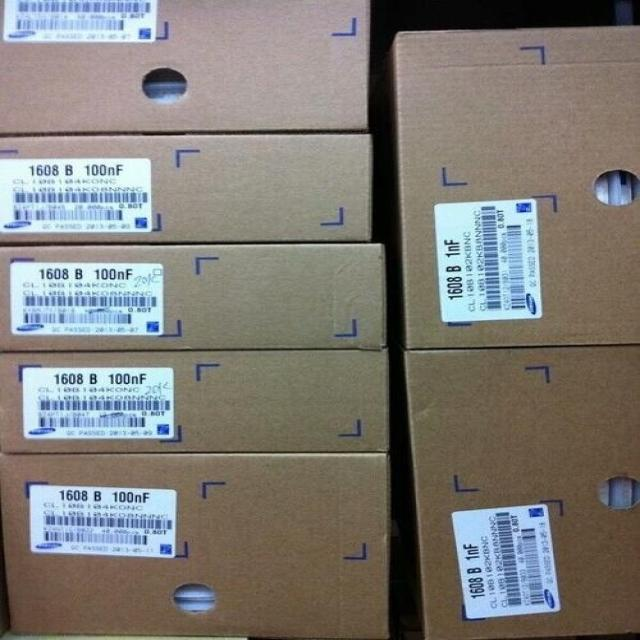Carton: (396, 28, 639, 345), (0, 454, 388, 639), (406, 348, 637, 639), (1, 0, 366, 134), (0, 348, 380, 455), (0, 244, 383, 350), (0, 135, 375, 242)
